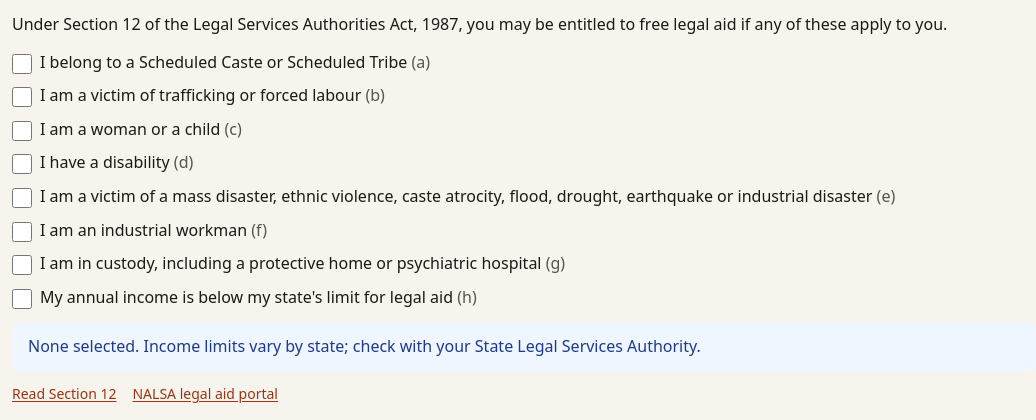
it: LegalAidPanel › reports likely eligibility once a category is ticked
The image size is (1036, 420).
Expected: the message shows "None selected", [28,335,701,357]
Step 1. Click the checkbox labelled "I am a woman or a child (c)" → click(22, 131), box [12,121,32,141]
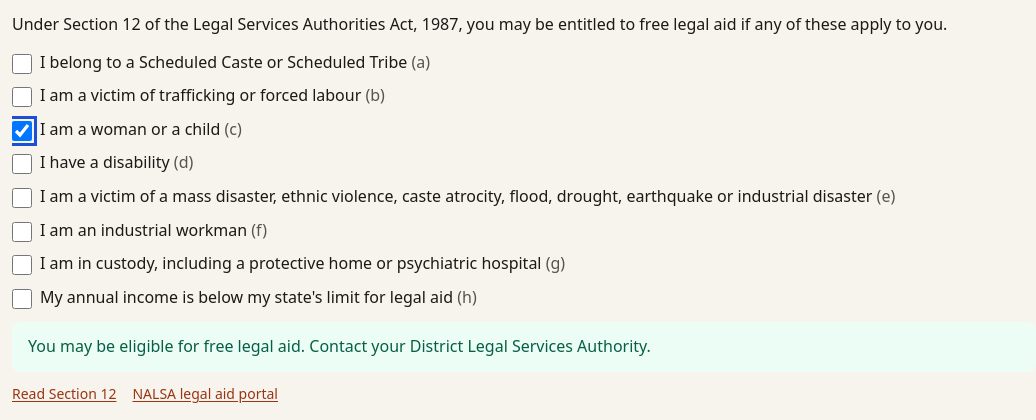
Result: the message shows "may be eligible" at [28,335,651,357]
